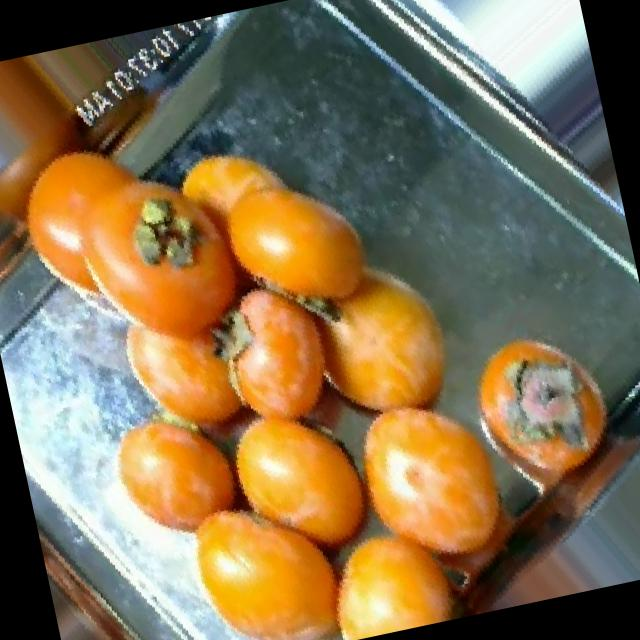Fruit: (280, 230, 488, 464), (78, 374, 270, 576)
